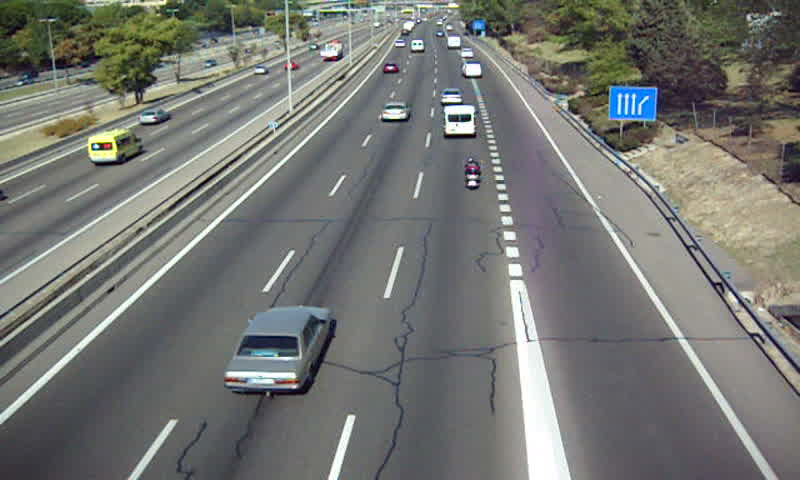car: (224, 306, 336, 393), (380, 102, 411, 123), (439, 88, 463, 106), (381, 63, 396, 76)
motorcycle: (462, 157, 483, 191)
van: (442, 105, 476, 136), (460, 64, 483, 80)
